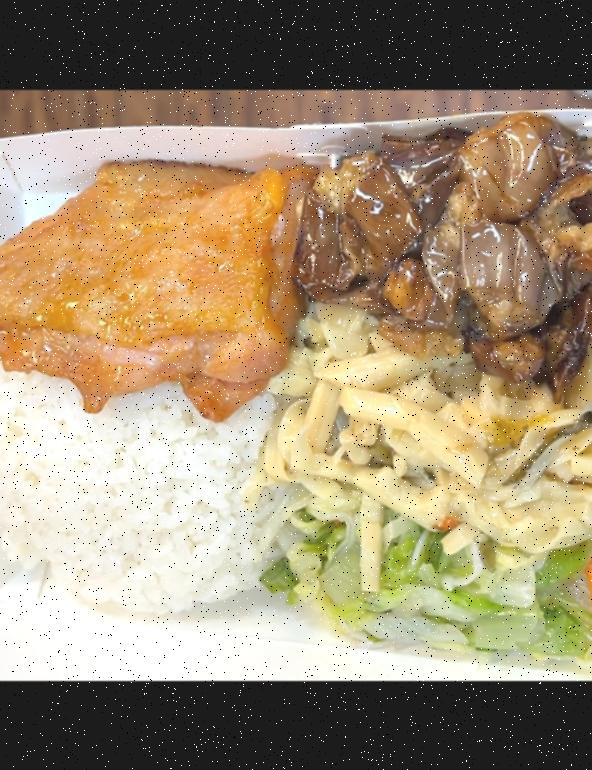box: (0, 102, 592, 659)
grilled chicken leg steak: (0, 157, 300, 418)
side dish: (268, 323, 592, 545), (298, 127, 592, 370), (265, 505, 592, 669)
white rice: (0, 376, 295, 626)
